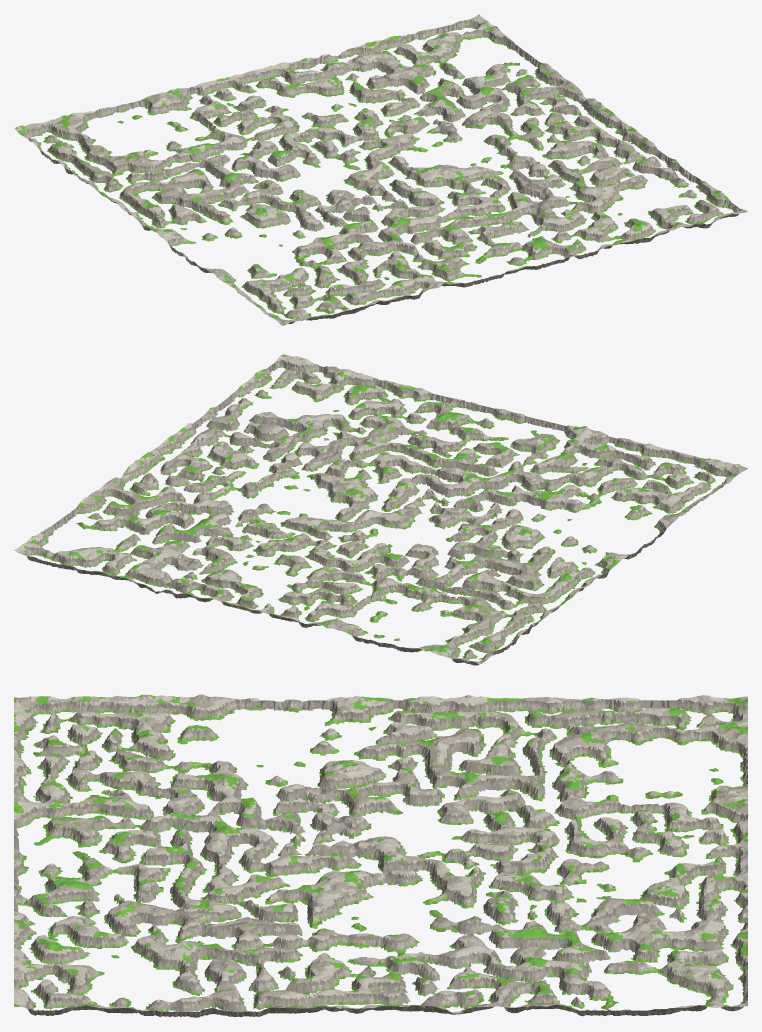
The model's file is Dungeon-2D-Relief.fbx.
The picture shows the model from 3 angles, top to bottom: view 1: azimuth 30°, elevation 25°; view 2: azimuth 150°, elevation 25°; view 3: azimuth 270°, elevation 25°; orthographic projection. The views are drawn at different scales.
Visible parts, largest first — view 1: Dungeon-2D-Relief-c47, Dungeon-2D-Relief-c15, Dungeon-2D-Relief-c75, Dungeon-2D-Relief-c73, Dungeon-2D-Relief-c67, Dungeon-2D-Relief-c07, Dungeon-2D-Relief-c74, Dungeon-2D-Relief-c14, Dungeon-2D-Relief-c42, Dungeon-2D-Relief-c04, Dungeon-2D-Relief-c72, Dungeon-2D-Relief-c51 (+51 smaller); view 2: Dungeon-2D-Relief-c75, Dungeon-2D-Relief-c70, Dungeon-2D-Relief-c10, Dungeon-2D-Relief-c60, Dungeon-2D-Relief-c20, Dungeon-2D-Relief-c50, Dungeon-2D-Relief-c15, Dungeon-2D-Relief-c73, Dungeon-2D-Relief-c40, Dungeon-2D-Relief-c65, Dungeon-2D-Relief-c31, Dungeon-2D-Relief-c74 (+49 smaller); view 3: Dungeon-2D-Relief-c06, Dungeon-2D-Relief-c04, Dungeon-2D-Relief-c07, Dungeon-2D-Relief-c01, Dungeon-2D-Relief-c65, Dungeon-2D-Relief-c00, Dungeon-2D-Relief-c52, Dungeon-2D-Relief-c05, Dungeon-2D-Relief-c66, Dungeon-2D-Relief-c73, Dungeon-2D-Relief-c32, Dungeon-2D-Relief-c72 (+52 smaller).
Part boxes in pixels (bbox=[...]): Dungeon-2D-Relief-c47: bbox=[247, 58, 337, 97]; Dungeon-2D-Relief-c15: bbox=[139, 150, 229, 193]; Dungeon-2D-Relief-c75: bbox=[488, 63, 579, 106]; Dungeon-2D-Relief-c73: bbox=[560, 113, 647, 160]; Dungeon-2D-Relief-c67: bbox=[363, 31, 450, 68]; Dungeon-2D-Relief-c07: bbox=[14, 113, 95, 159]; Dungeon-2D-Relief-c74: bbox=[522, 90, 613, 134]; Dungeon-2D-Relief-c14: bbox=[173, 175, 259, 218]; Dungeon-2D-Relief-c42: bbox=[415, 183, 504, 222]; Dungeon-2D-Relief-c04: bbox=[116, 188, 205, 230]; Dungeon-2D-Relief-c72: bbox=[597, 139, 680, 182]; Dungeon-2D-Relief-c51: bbox=[512, 196, 591, 234]; Dungeon-2D-Relief-c75: bbox=[81, 478, 173, 517]; Dungeon-2D-Relief-c70: bbox=[249, 354, 339, 397]; Dungeon-2D-Relief-c10: bbox=[604, 440, 689, 480]; Dungeon-2D-Relief-c60: bbox=[311, 369, 398, 410]; Dungeon-2D-Relief-c20: bbox=[539, 426, 631, 468]; Dungeon-2D-Relief-c50: bbox=[366, 384, 456, 424]; Dungeon-2D-Relief-c15: bbox=[431, 563, 520, 603]; Dungeon-2D-Relief-c73: bbox=[149, 428, 239, 473]; Dungeon-2D-Relief-c40: bbox=[426, 399, 514, 441]; Dungeon-2D-Relief-c65: bbox=[144, 493, 230, 536]; Dungeon-2D-Relief-c31: bbox=[448, 442, 540, 476]; Dungeon-2D-Relief-c74: bbox=[115, 452, 205, 492]; Dungeon-2D-Relief-c06: bbox=[564, 697, 657, 745]; Dungeon-2D-Relief-c04: bbox=[380, 695, 473, 744]; Dungeon-2D-Relief-c07: bbox=[655, 695, 747, 745]; Dungeon-2D-Relief-c01: bbox=[104, 694, 197, 744]; Dungeon-2D-Relief-c65: bbox=[471, 928, 564, 979]; Dungeon-2D-Relief-c00: bbox=[14, 696, 106, 745]; Dungeon-2D-Relief-c52: bbox=[197, 892, 290, 939]; Dungeon-2D-Relief-c05: bbox=[471, 696, 564, 745]; Dungeon-2D-Relief-c66: bbox=[564, 929, 657, 978]; Dungeon-2D-Relief-c73: bbox=[288, 969, 381, 1013]; Dungeon-2D-Relief-c32: bbox=[197, 813, 290, 862]; Dungeon-2D-Relief-c72: bbox=[197, 967, 290, 1017].
Bounding box in the file's own units: 132 × 2.94 × 132.
